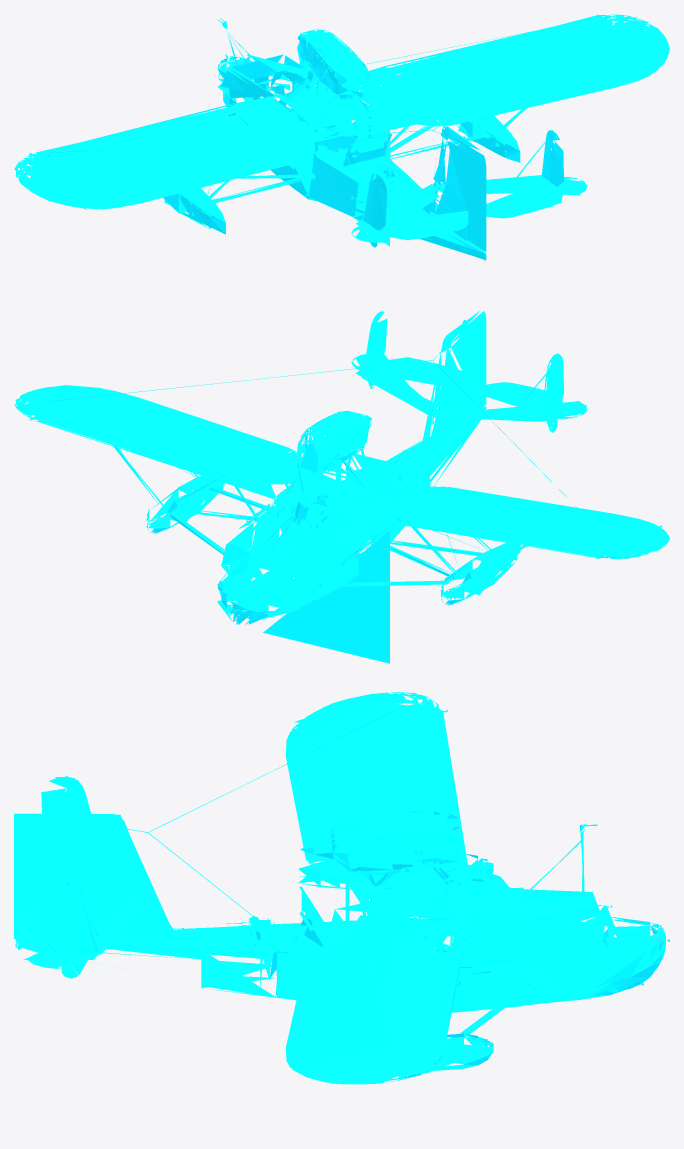
Rendered from PFAS001.glb.
3 views of the same model, one above another, from view 1: azimuth 30°, elevation 25°; view 2: azimuth 150°, elevation 25°; view 3: azimuth 270°, elevation 25° (orthographic). The views are drawn at different scales.
Visible parts, largest first — view 1: misc; view 2: misc; view 3: misc.
Boxes of the visible parts, x1=… form: misc: x1=14, y1=14, x2=669, y2=261; misc: x1=14, y1=310, x2=669, y2=663; misc: x1=14, y1=692, x2=669, y2=1084.
Size of the model in its own units: 1.07 by 0.364 by 0.7581.
